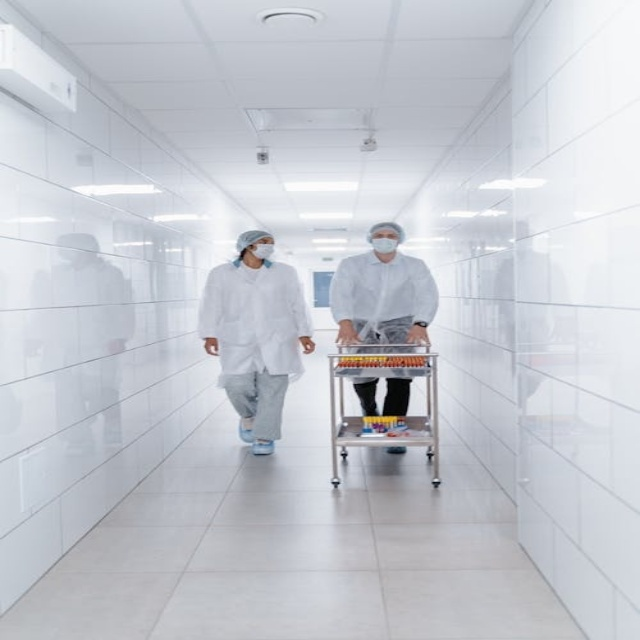Mascara: (247, 243, 276, 259), (370, 241, 398, 256)
Sin_gafas: (253, 237, 278, 245), (372, 233, 400, 240)
Sin_guantes: (334, 320, 365, 348), (404, 322, 435, 347), (198, 338, 221, 357), (296, 337, 314, 356)
